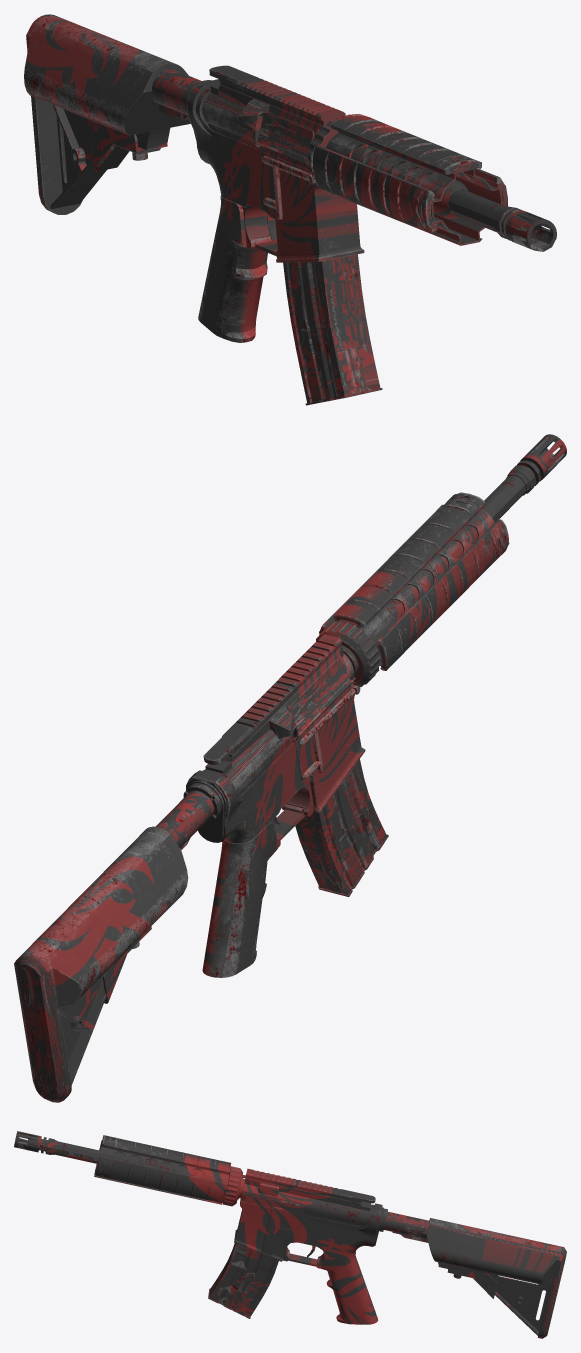
Rendered from GUN1.fbx.
The picture shows the model from 3 angles, top to bottom: view 1: azimuth 30°, elevation 25°; view 2: azimuth 150°, elevation 25°; view 3: azimuth 270°, elevation 25°; orthographic projection. The views are drawn at different scales.
Visible parts, largest first — view 1: _gltfNode_0; view 2: _gltfNode_0; view 3: _gltfNode_0.
Part boxes in pixels (box(x1,y1,x2,y2)): _gltfNode_0: box(24, 14, 556, 405); _gltfNode_0: box(14, 434, 566, 1102); _gltfNode_0: box(14, 1131, 566, 1338).
Size of the model in its own units: 108 by 337 by 868.
1 material, 1 textured.
